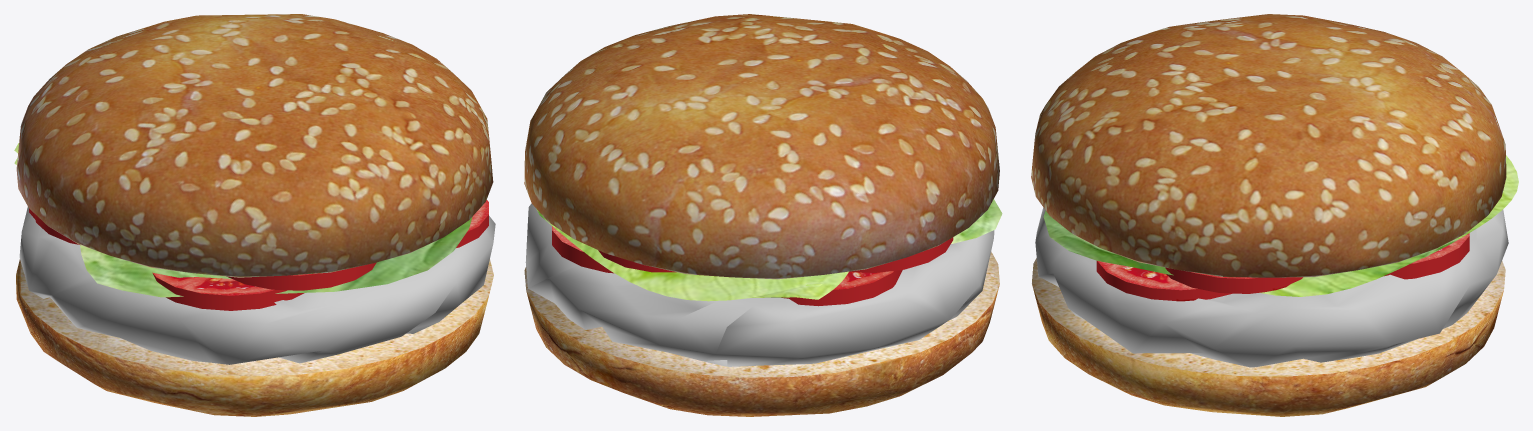
File: Burger 2.FBX
3 views of the same model, side by side, from view 1: azimuth 30°, elevation 25°; view 2: azimuth 150°, elevation 25°; view 3: azimuth 270°, elevation 25° (orthographic).
Parts seen in each view (by area): view 1: Burger 2; view 2: Burger 2; view 3: Burger 2.
Boxes of the visible parts, <box> form: Burger 2: <box>14,14,495,416</box>; Burger 2: <box>524,14,1002,416</box>; Burger 2: <box>1031,14,1518,416</box>.
Size of the model in its own units: 13.96 by 9.08 by 14.2.
